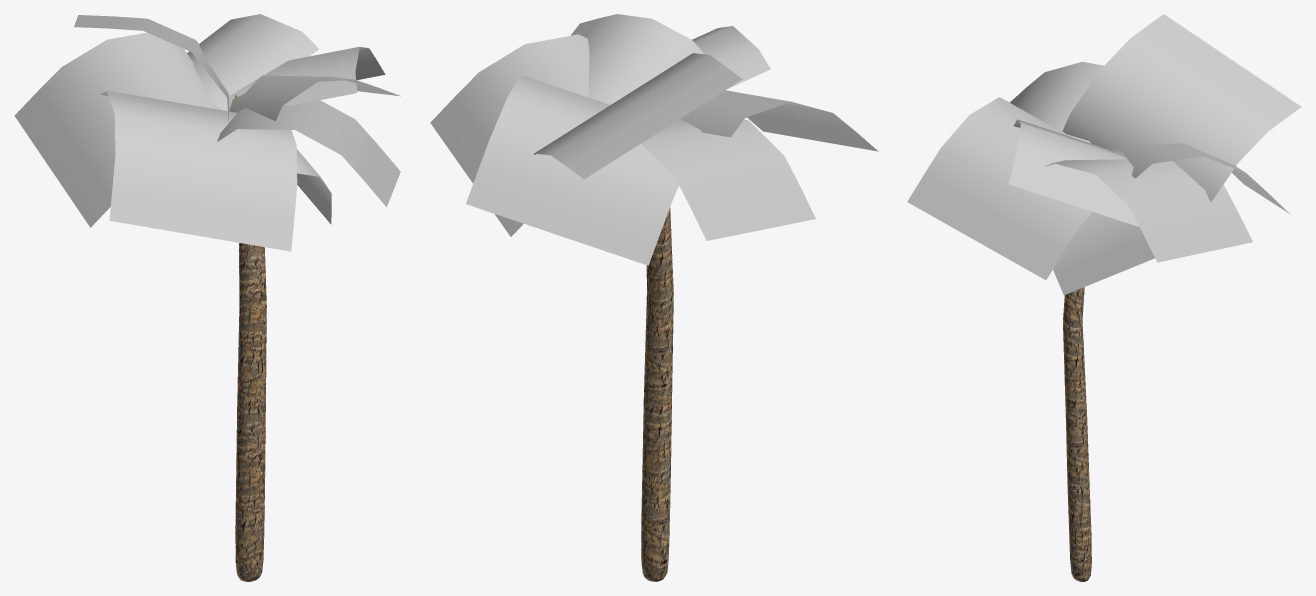
Rendered from palm1.fbx.
3 renders of one model, left to right at view 1: azimuth 30°, elevation 25°; view 2: azimuth 150°, elevation 25°; view 3: azimuth 270°, elevation 25°, orthographic. The views are drawn at different scales.
Parts seen in each view (by area): view 1: Palm1; view 2: Palm1; view 3: Palm1.
Boxes of the visible parts, box(x1,y1,x2,y2) form: Palm1: box(14, 14, 400, 581); Palm1: box(430, 14, 878, 581); Palm1: box(907, 14, 1301, 581).
Bounding box in the file's own units: 797 × 1180 × 831.
